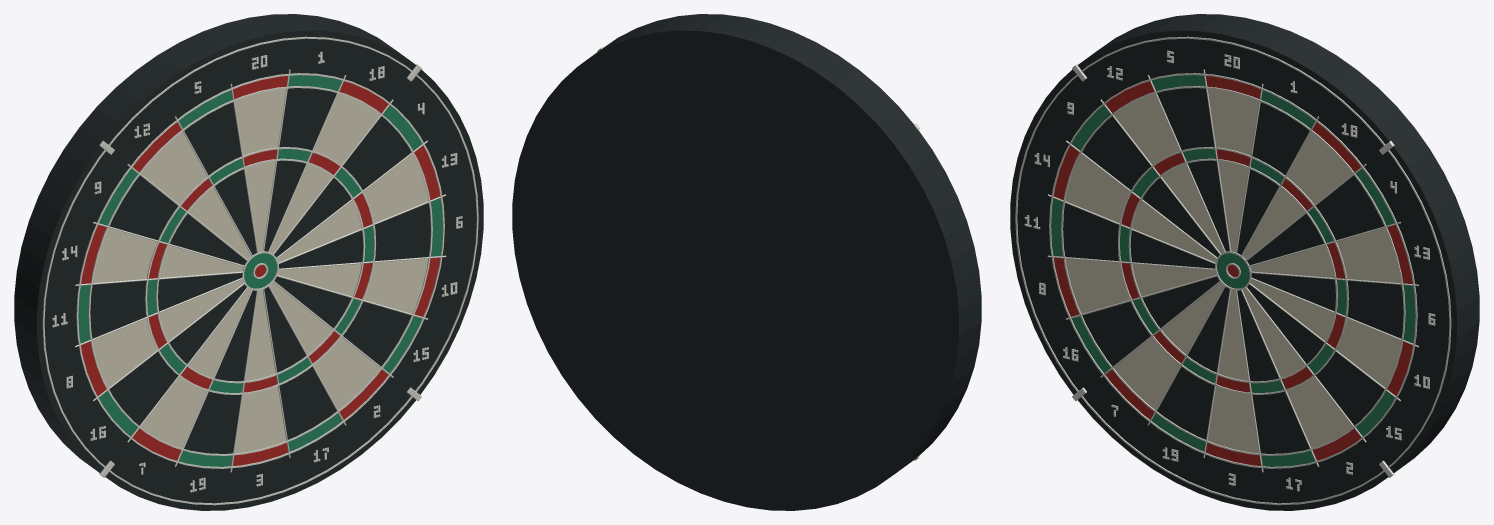
File: full.glb
The picture shows the model from 3 angles, left to right: view 1: azimuth 30°, elevation 25°; view 2: azimuth 150°, elevation 25°; view 3: azimuth 330°, elevation 25°; orthographic projection.
Visible parts, largest first — view 1: Continuous scoring face and solid backing, Concentric wire 0.199, Concentric wire 0.168, Concentric wire 0.157, Concentric wire 0.105, Concentric wire 0.095; view 2: Continuous scoring face and solid backing; view 3: Continuous scoring face and solid backing, Concentric wire 0.199, Concentric wire 0.168, Concentric wire 0.157, Concentric wire 0.105, Concentric wire 0.095.
Boxes of the visible parts, x1,y1,x2,y2 form: Continuous scoring face and solid backing: (14, 14, 483, 510); Concentric wire 0.199: (42, 36, 478, 505); Concentric wire 0.168: (76, 73, 444, 468); Concentric wire 0.157: (88, 86, 432, 455); Concentric wire 0.105: (145, 147, 376, 394); Concentric wire 0.095: (156, 158, 365, 383); Continuous scoring face and solid backing: (512, 14, 981, 510); Continuous scoring face and solid backing: (1010, 14, 1479, 510); Concentric wire 0.199: (1015, 36, 1451, 505); Concentric wire 0.168: (1049, 73, 1417, 468); Concentric wire 0.157: (1061, 86, 1405, 455); Concentric wire 0.105: (1117, 147, 1348, 394); Concentric wire 0.095: (1128, 158, 1337, 383).
Size of the model in its own units: 0.4094 by 0.4094 by 0.038.
